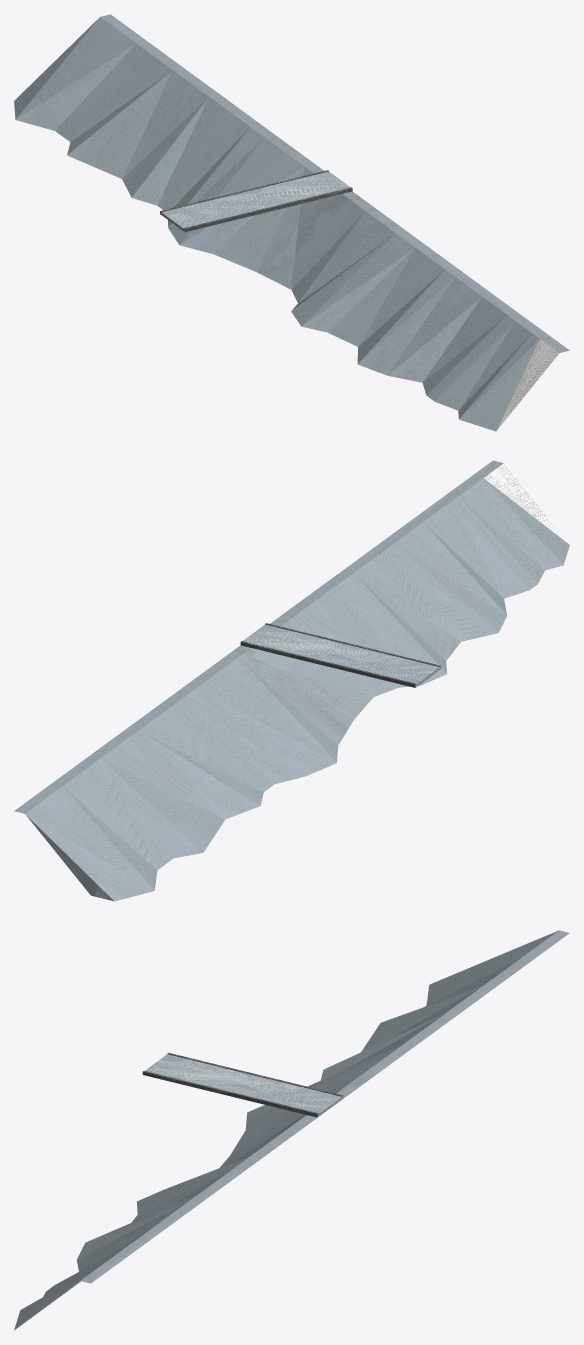
The model's file is road lake end.fbx.
3 renders of one model, top to bottom at view 1: azimuth 30°, elevation 25°; view 2: azimuth 150°, elevation 25°; view 3: azimuth 330°, elevation 25°, orthographic. The views are drawn at different scales.
Visible parts, largest first — view 1: Model; view 2: Model; view 3: Model.
Boxes of the visible parts, x1,y1,x2,y2 form: Model: (14,14,569,431); Model: (14,460,569,901); Model: (14,930,569,1330).
Bounding box in the file's own units: 97.96 × 37.02 × 465.
